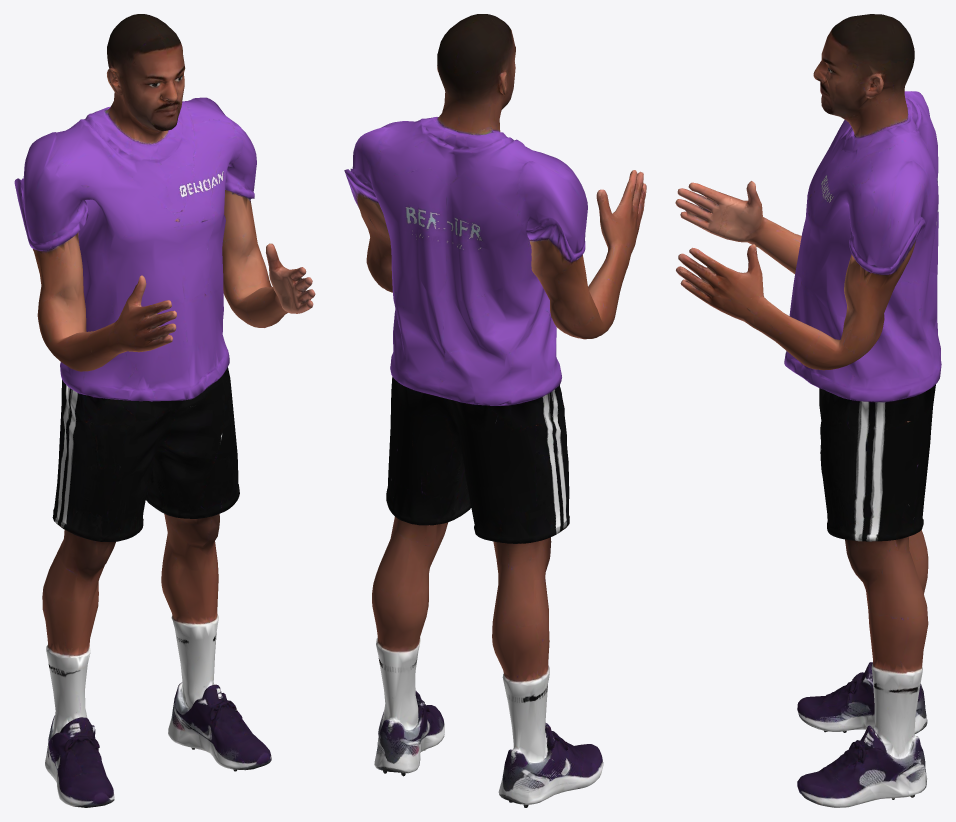
The model's file is treino.glb.
3 renders of one model, left to right at view 1: azimuth 30°, elevation 25°; view 2: azimuth 150°, elevation 25°; view 3: azimuth 270°, elevation 25°, orthographic.
Size of the model in its own units: 0.5549 by 1.77 by 0.5707.
1 material, 1 textured.
